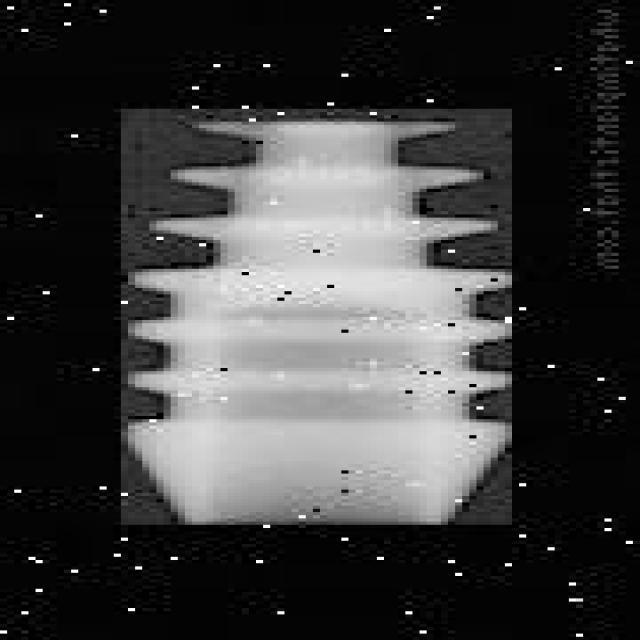OsseoLink Implant: (121, 109, 512, 525)
